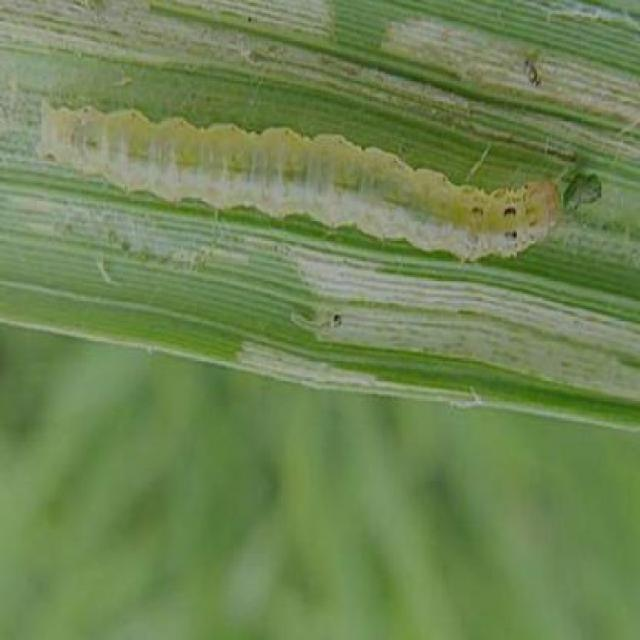leaf-folder: (29, 52, 618, 276)
